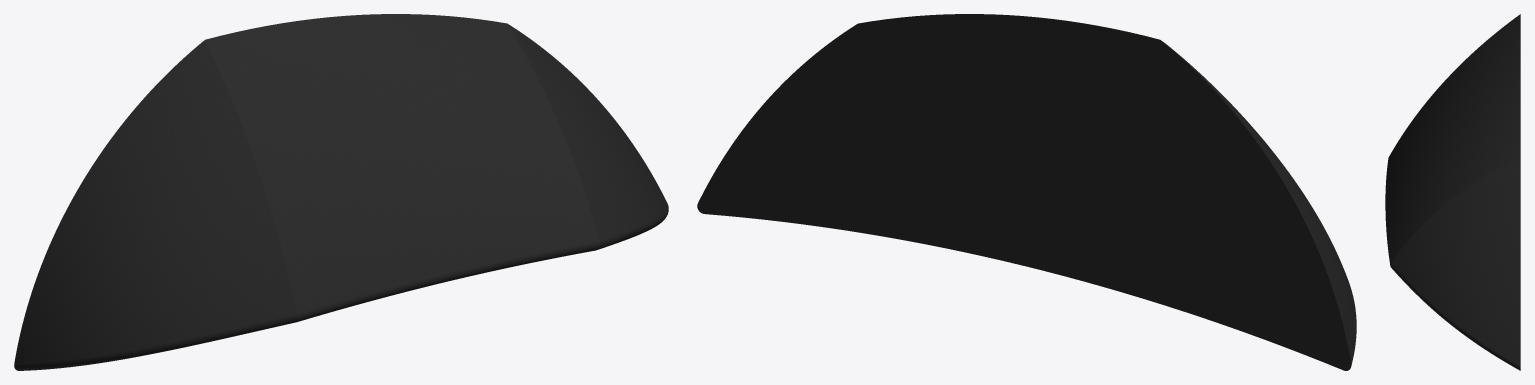
The model's file is hold03.glb.
The picture shows the model from 3 angles, left to right: view 1: azimuth 30°, elevation 25°; view 2: azimuth 150°, elevation 25°; view 3: azimuth 270°, elevation 25°; orthographic projection. The views are drawn at different scales.
Visible parts, largest first — view 1: Object_2; view 2: Object_2; view 3: Object_2.
Boxes of the visible parts, left/top/right/bottom form: Object_2: left=14, top=14, right=668, bottom=370; Object_2: left=697, top=14, right=1356, bottom=370; Object_2: left=1385, top=14, right=1520, bottom=370.
Bounding box in the file's own units: 654 × 274 × 167.
1 material, 1 textured.
